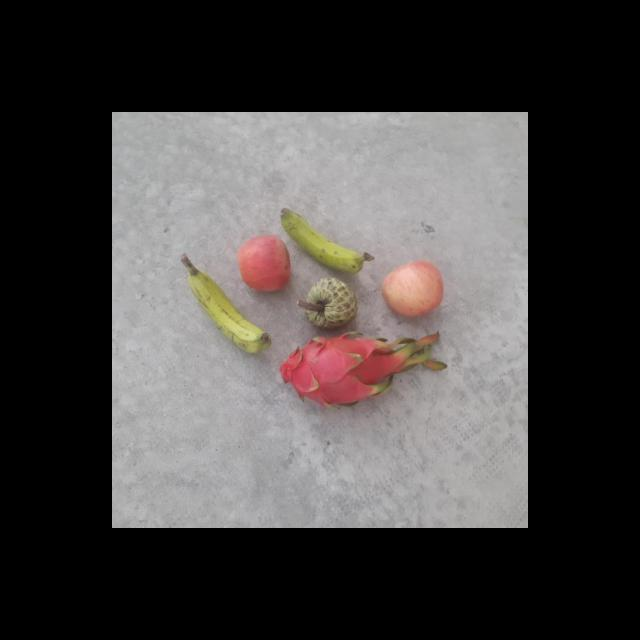Sakya fruit: (304, 273, 358, 331)
apple: (380, 258, 448, 320), (234, 232, 294, 290)
banana: (183, 269, 272, 356), (276, 207, 374, 274)
pitaya: (279, 330, 401, 411)
